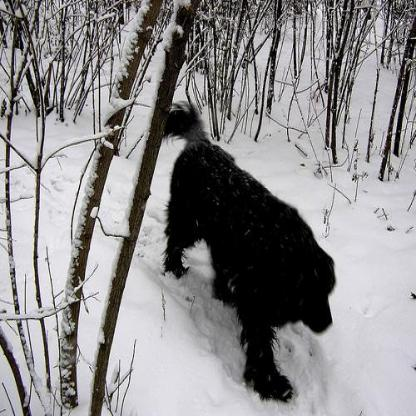Newfoundland: (161, 100, 336, 404)
